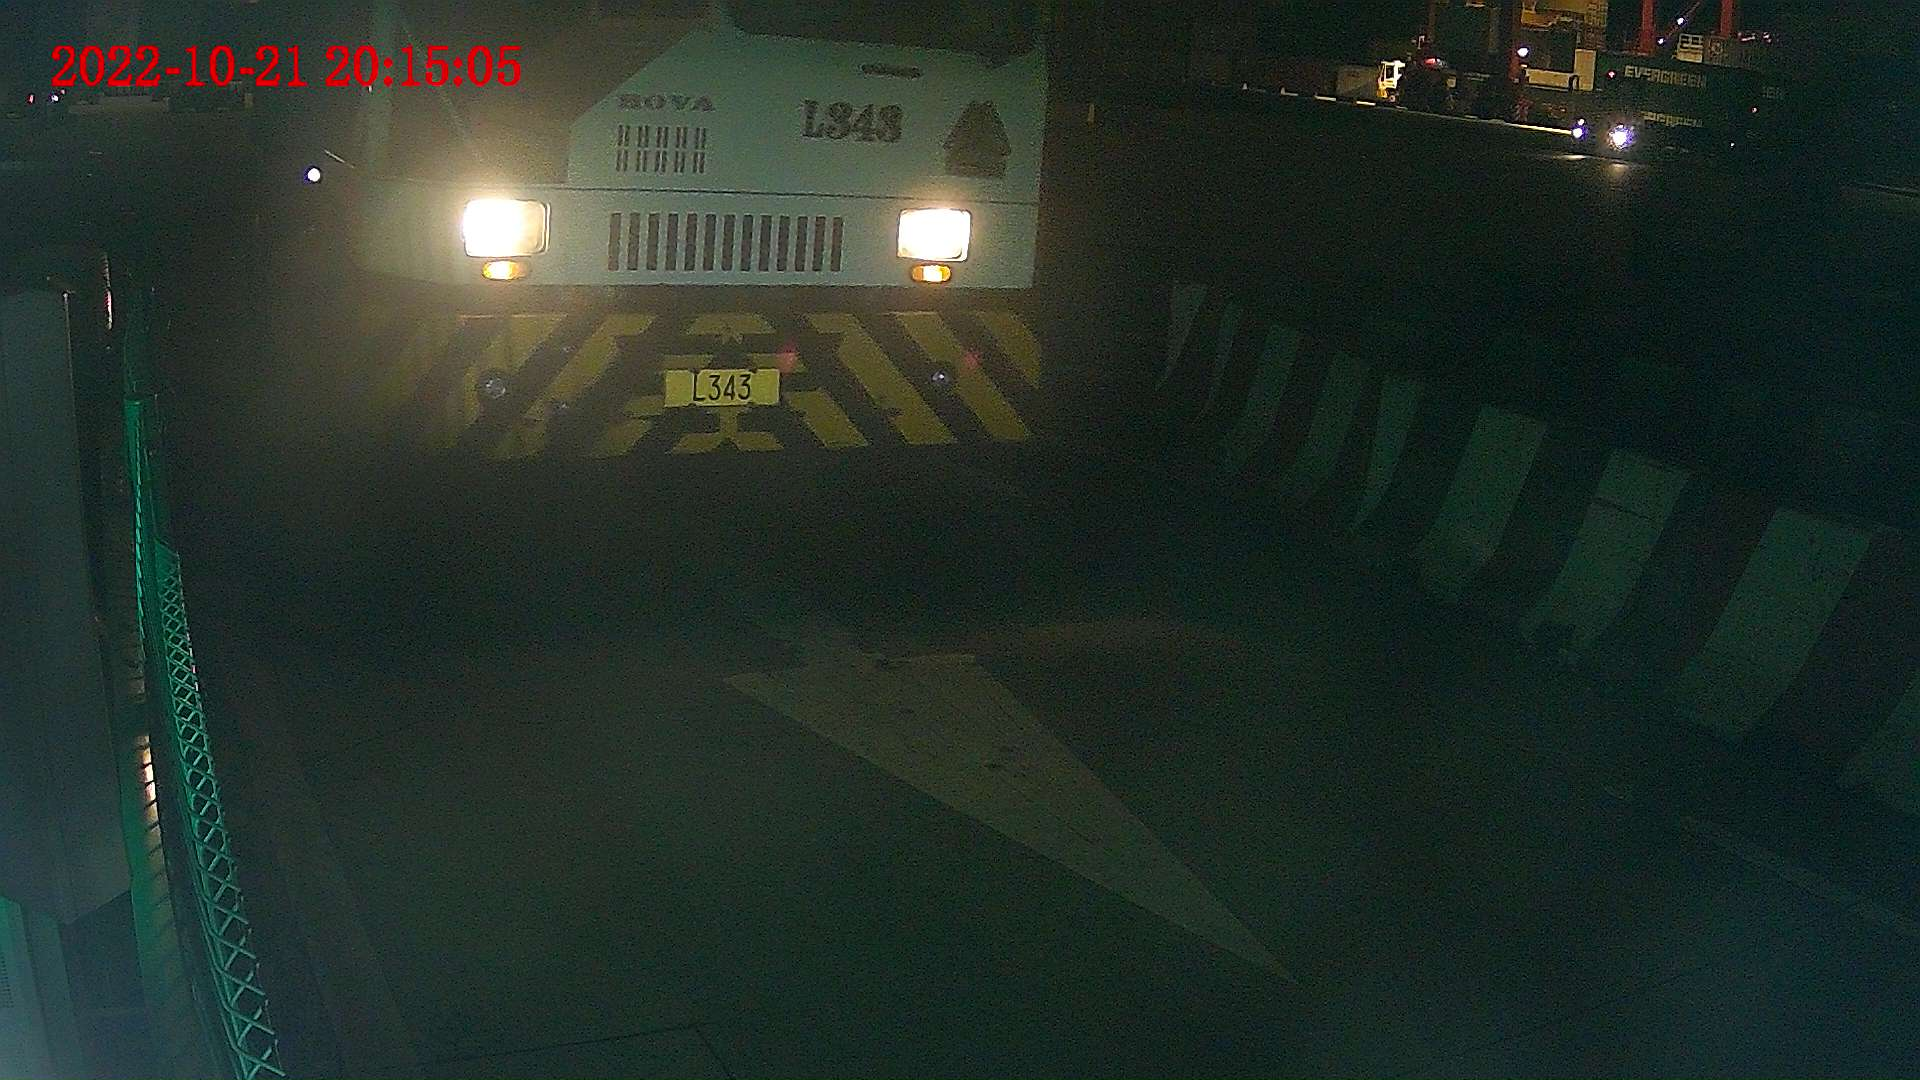head: (288, 1, 1046, 490)
plate: (662, 370, 776, 406)
